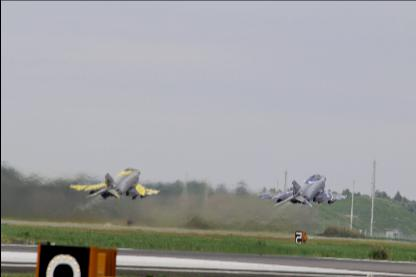F35: (69, 166, 160, 200), (256, 172, 346, 206)
